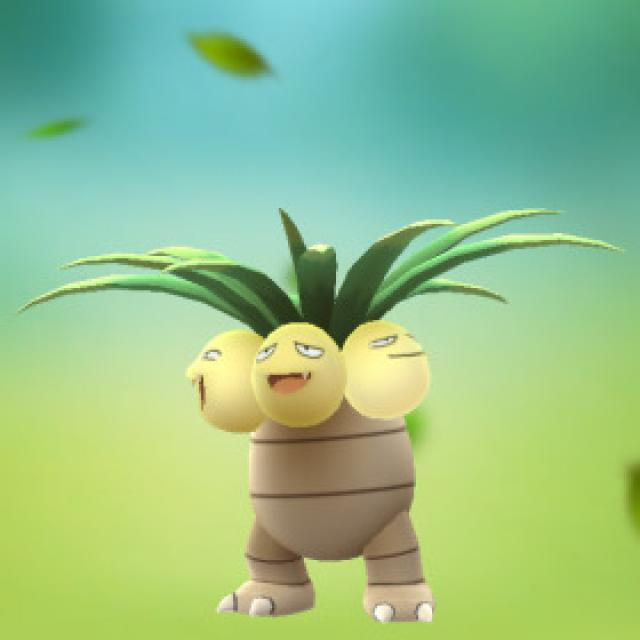Exeggutor: (188, 198, 444, 627)
